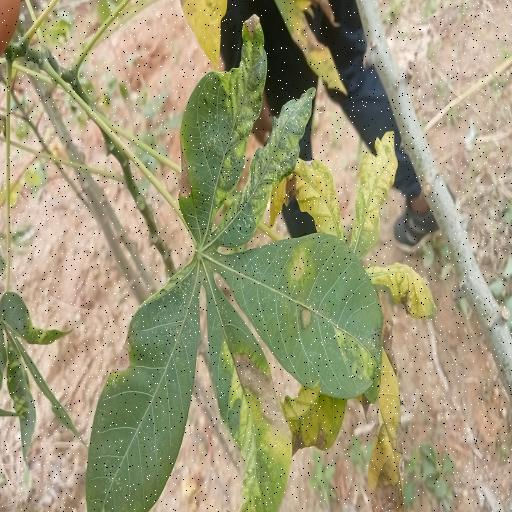Cassava_Root_Rot: (85, 23, 381, 512)
